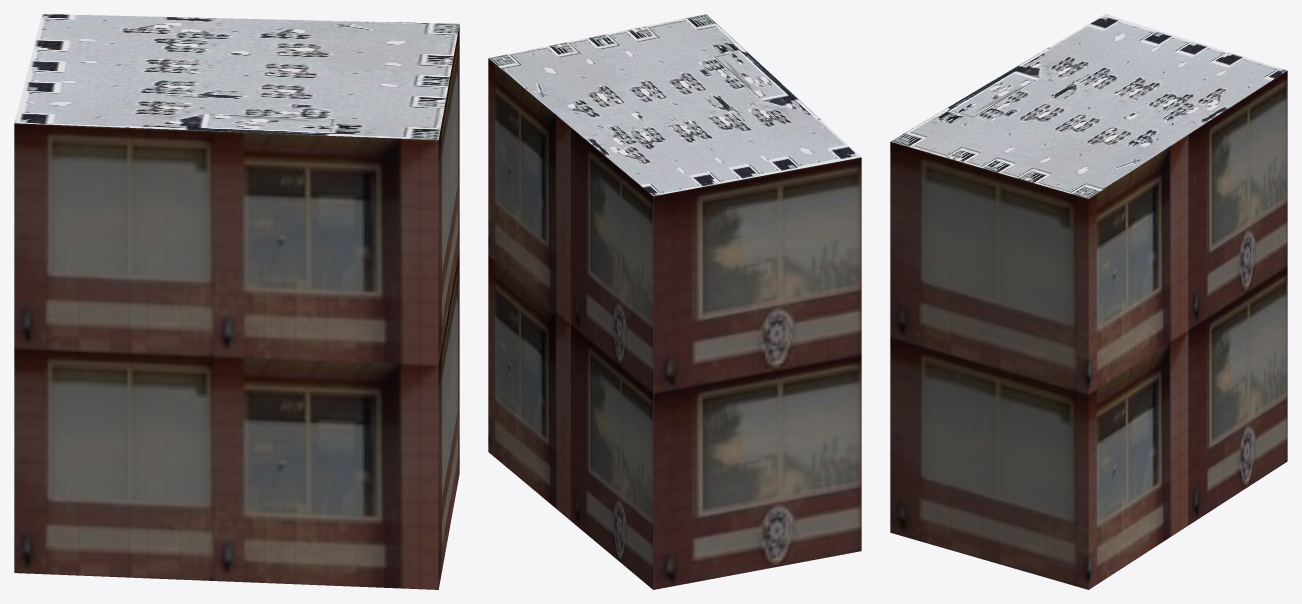
File: ResTex__3683.fbx
The picture shows the model from 3 angles, left to right: view 1: azimuth 30°, elevation 25°; view 2: azimuth 150°, elevation 25°; view 3: azimuth 270°, elevation 25°; orthographic projection. The views are drawn at different scales.
Parts seen in each view (by area): view 1: CityEngineMaterial_13_m, CityEngineMaterial_m; view 2: CityEngineMaterial_13_m, CityEngineMaterial_m; view 3: CityEngineMaterial_13_m, CityEngineMaterial_m.
Boxes of the visible parts, x1,y1,x2,y2 form: CityEngineMaterial_13_m: (14,25,459,589); CityEngineMaterial_m: (14,14,459,140); CityEngineMaterial_13_m: (488,58,861,589); CityEngineMaterial_m: (488,14,860,196); CityEngineMaterial_13_m: (890,70,1287,589); CityEngineMaterial_m: (891,14,1287,198).
Size of the model in its own units: 6.09 by 6 by 5.52.
Materials: 2 (2 with a texture image).
